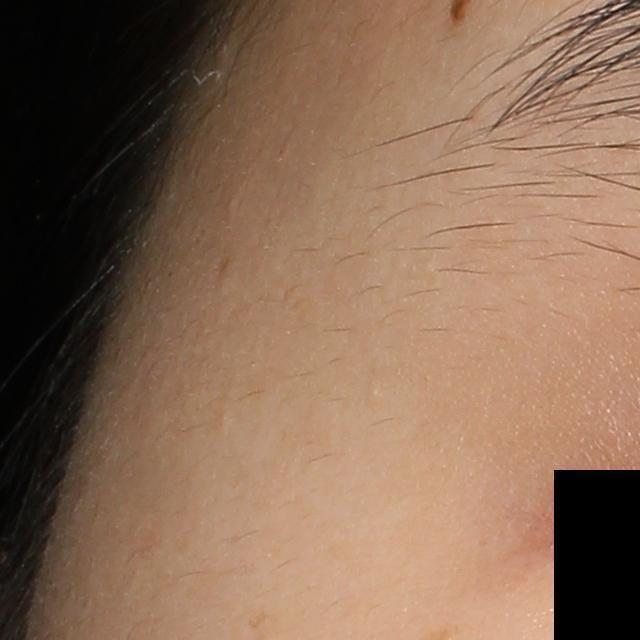melasma: (248, 610, 273, 628)
